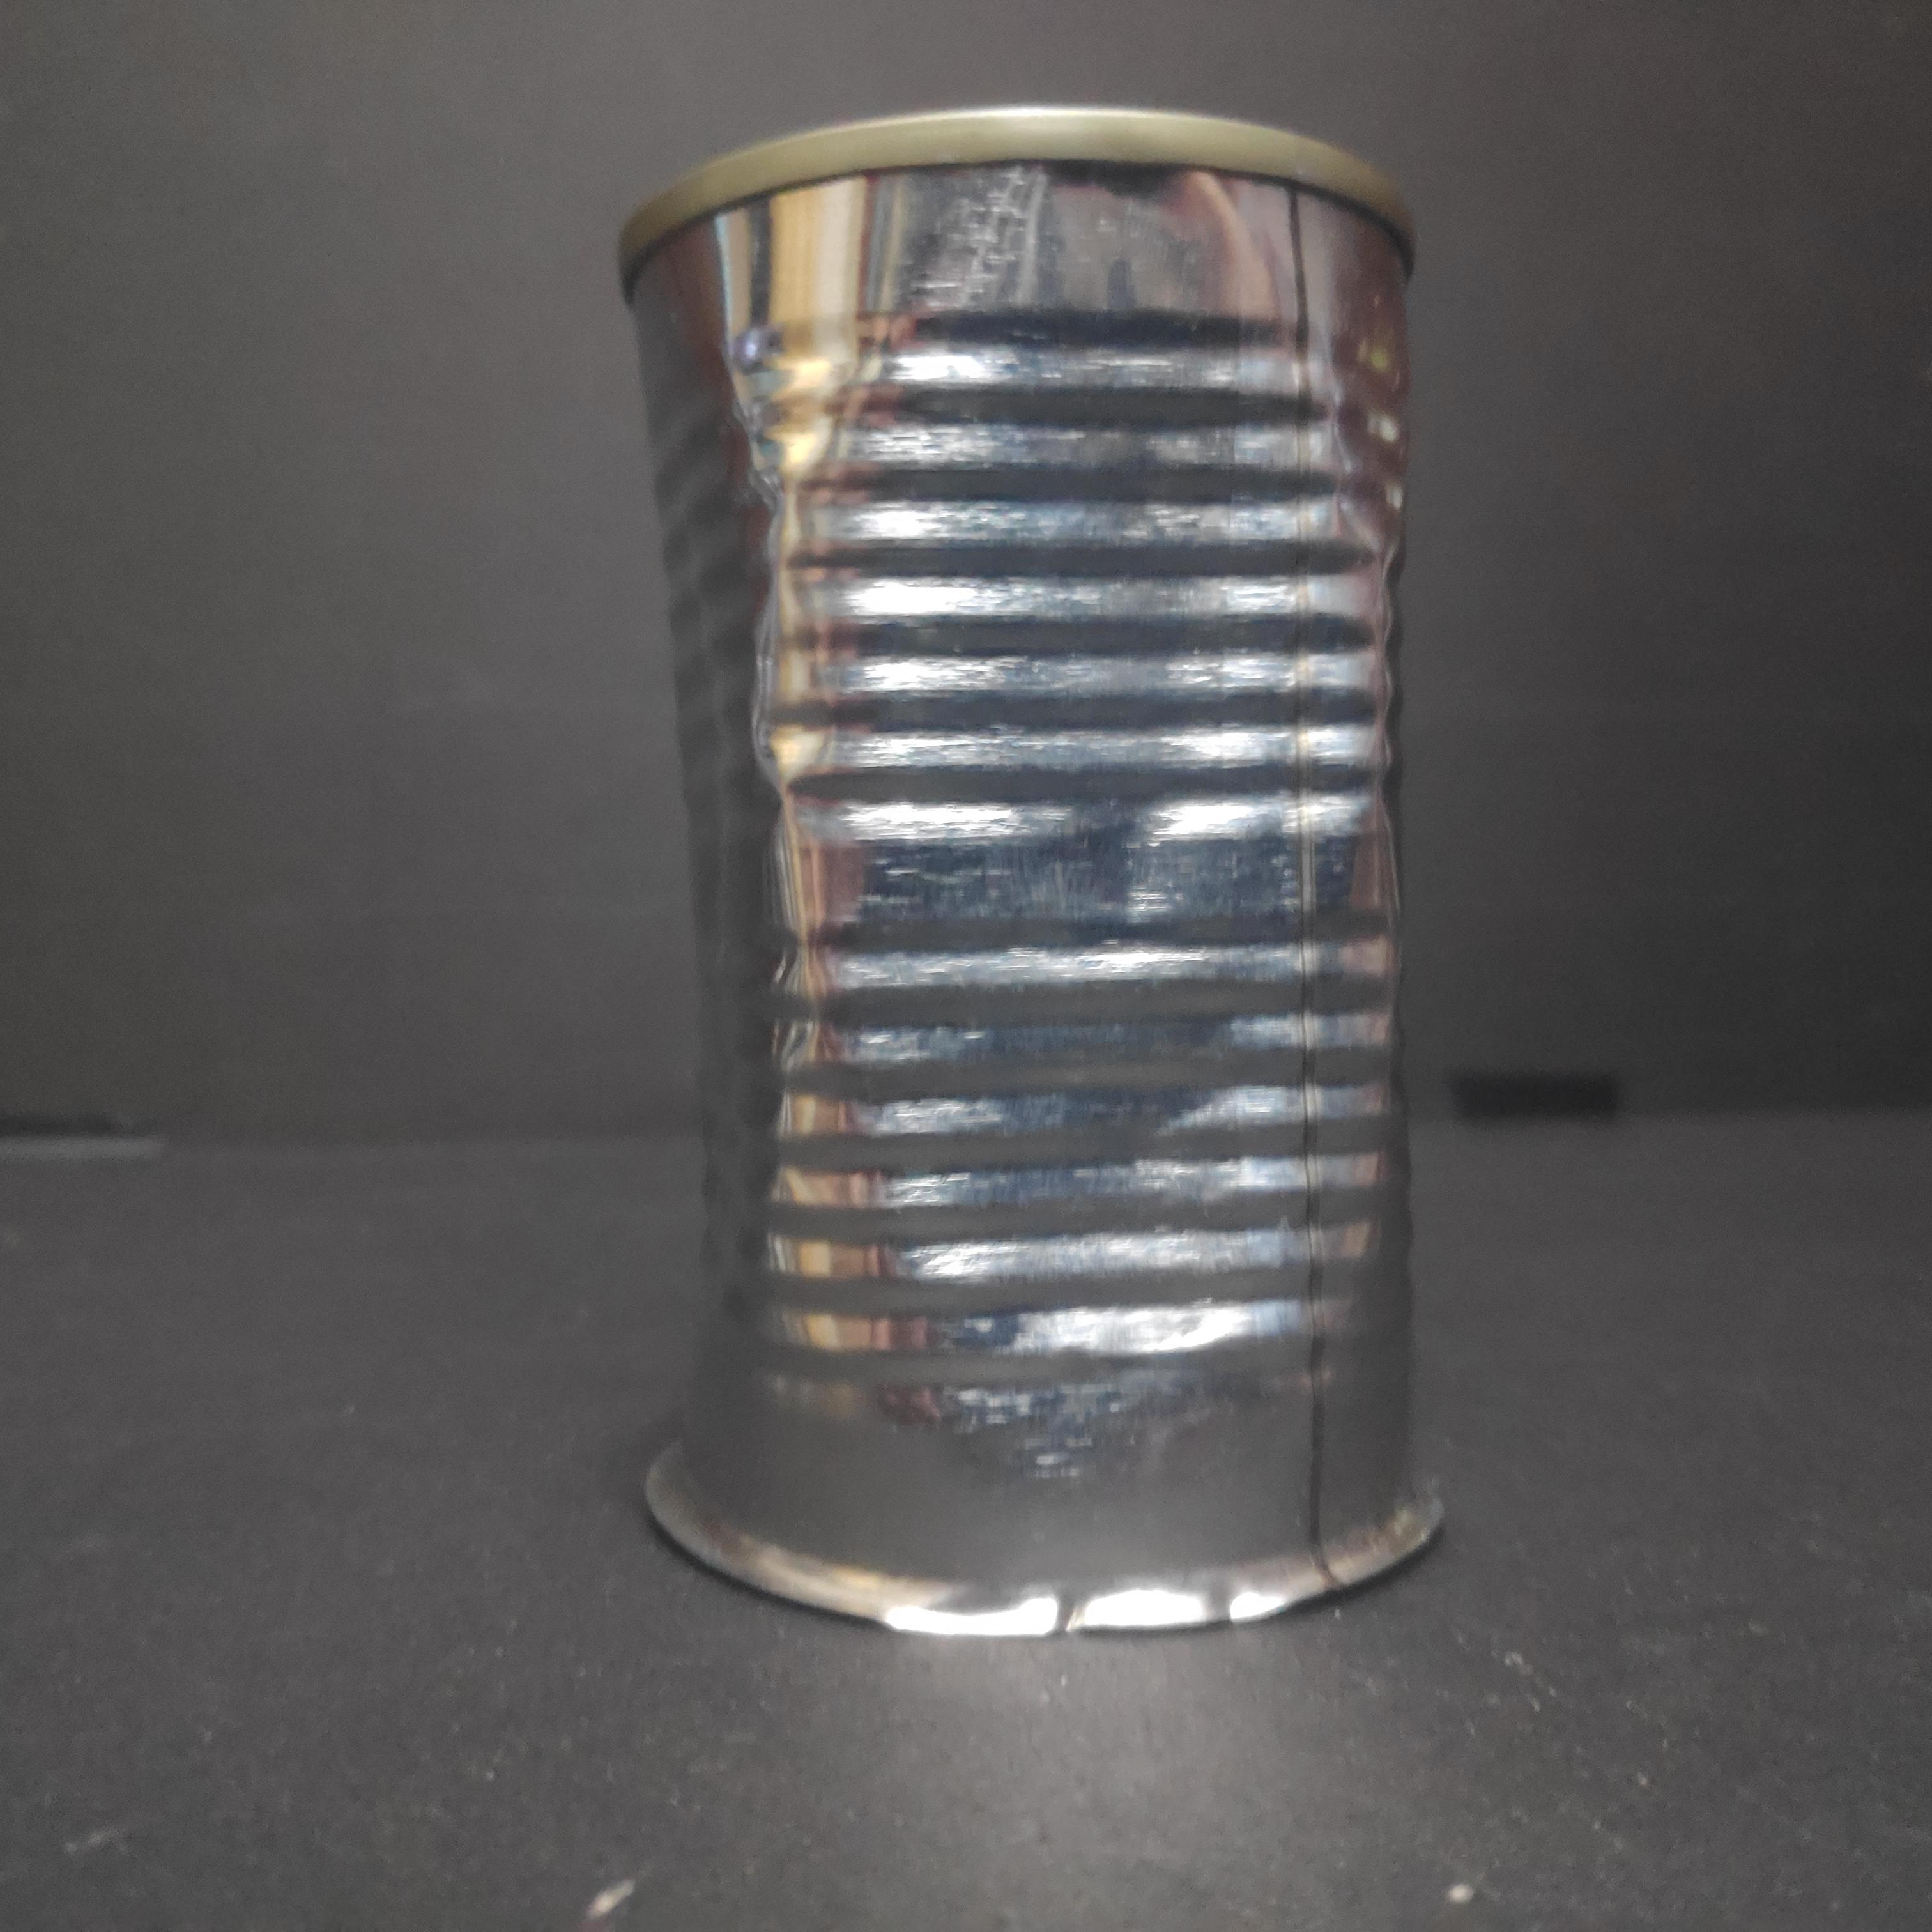Dented: (597, 89, 1460, 1642)
